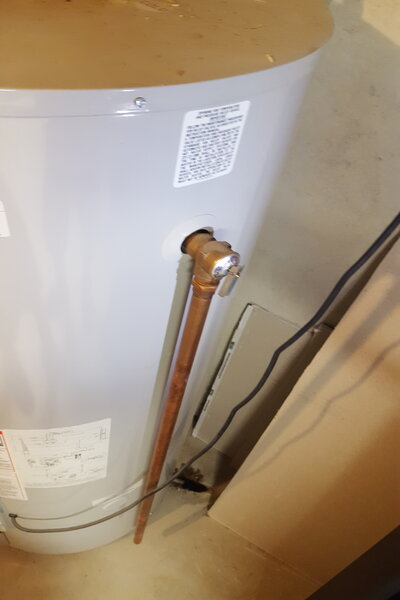valve: (181, 230, 243, 321)
